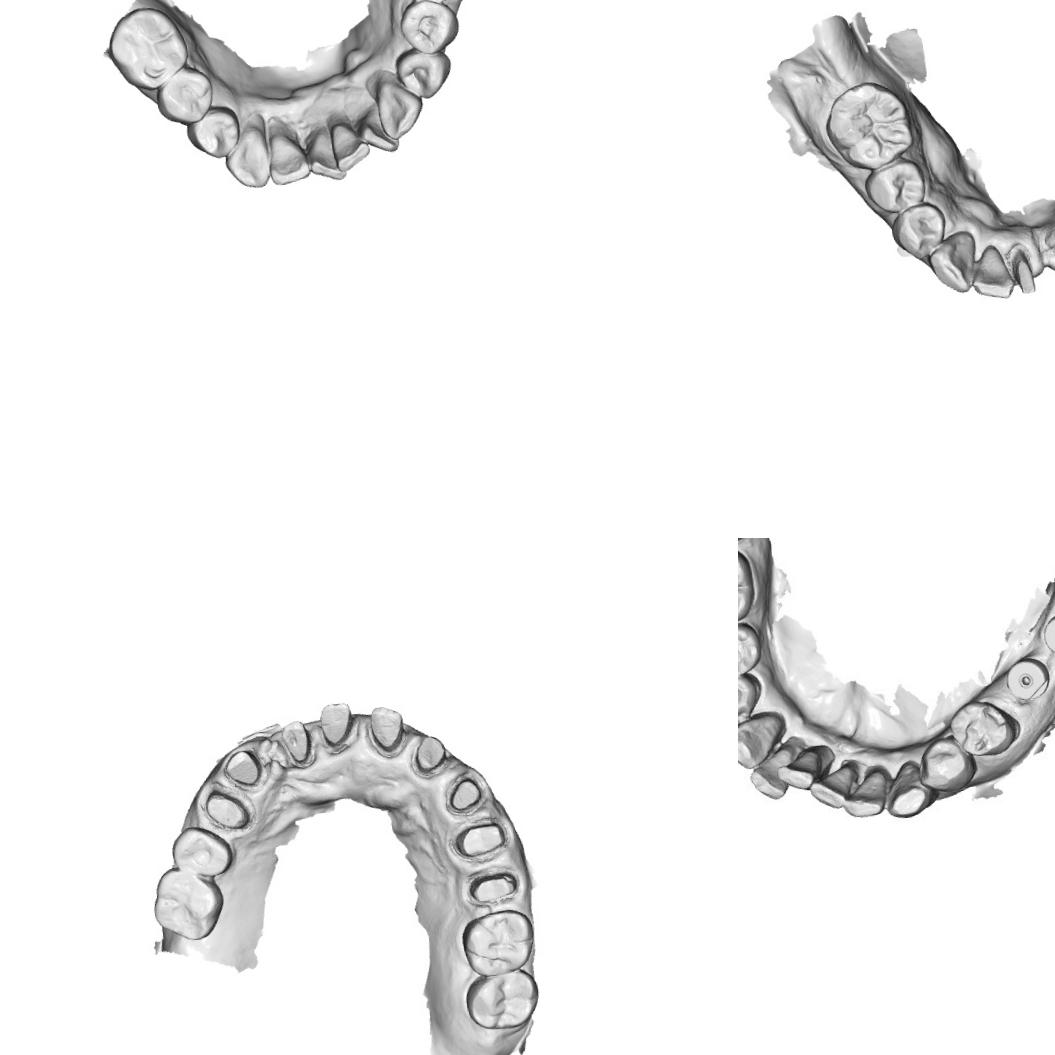abutment: (1008, 246, 1041, 296)
canine: (924, 228, 981, 297), (372, 76, 427, 144), (220, 123, 273, 193), (882, 754, 936, 820), (738, 712, 786, 772)
crown: (362, 701, 412, 758), (448, 818, 511, 863), (200, 785, 254, 836), (315, 698, 360, 754), (276, 716, 319, 773), (463, 868, 522, 907), (218, 745, 266, 791), (442, 772, 488, 818), (408, 732, 452, 780)
implant: (1002, 654, 1048, 704), (1037, 603, 1055, 665)
incisor: (264, 125, 312, 188), (804, 761, 860, 815), (303, 119, 347, 186), (328, 110, 372, 175), (968, 242, 1014, 303), (839, 768, 890, 823), (746, 750, 793, 804), (779, 747, 832, 791), (358, 102, 400, 157)
molar: (820, 76, 914, 175), (101, 1, 193, 96), (148, 863, 230, 946), (456, 904, 540, 980), (461, 968, 543, 1034), (738, 540, 758, 634)
premolar: (946, 695, 1022, 763), (150, 64, 216, 130), (913, 734, 979, 798), (888, 198, 951, 264), (860, 156, 929, 216), (167, 822, 236, 882), (394, 0, 464, 58), (182, 102, 244, 166), (393, 43, 456, 104), (738, 619, 765, 681), (738, 673, 767, 727)
